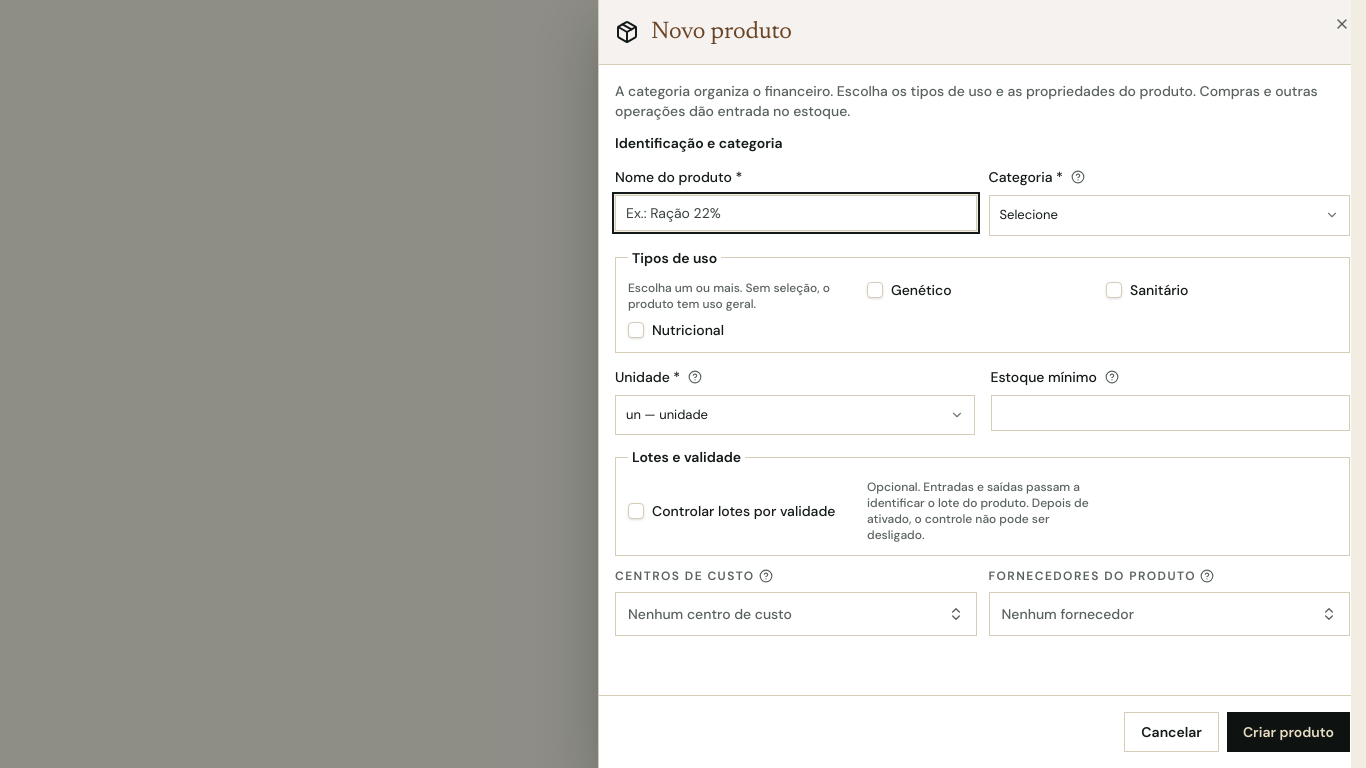
Test case: tipos de uso e validação dos perfis › recusa MS -1 no campo e mantém o formulário
This screenshot has width=1366, height=768.
In the field labelled "Nome do produto": (796, 213) [615, 195, 976, 231], type "Produto de teste"
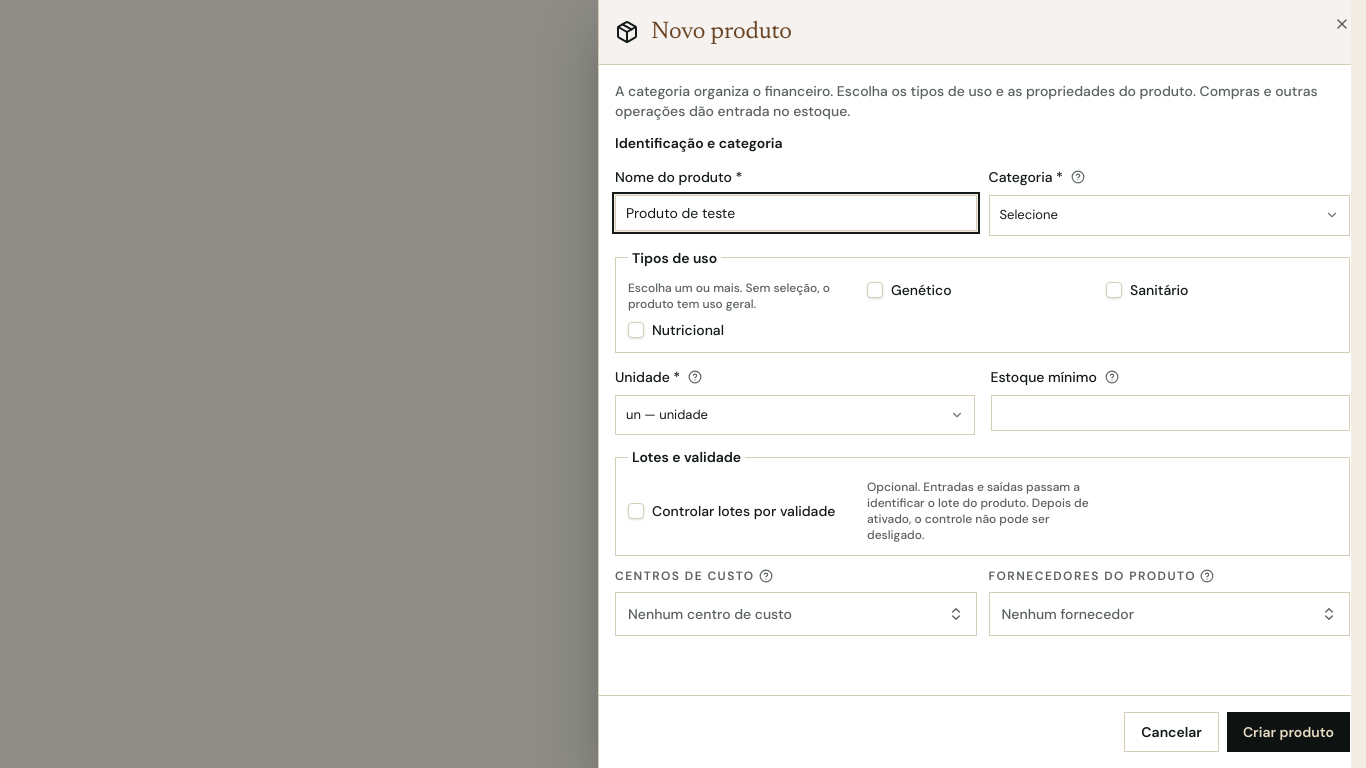
Click the dropdown named "Categoria": (1029, 214) [988, 195, 1350, 236]
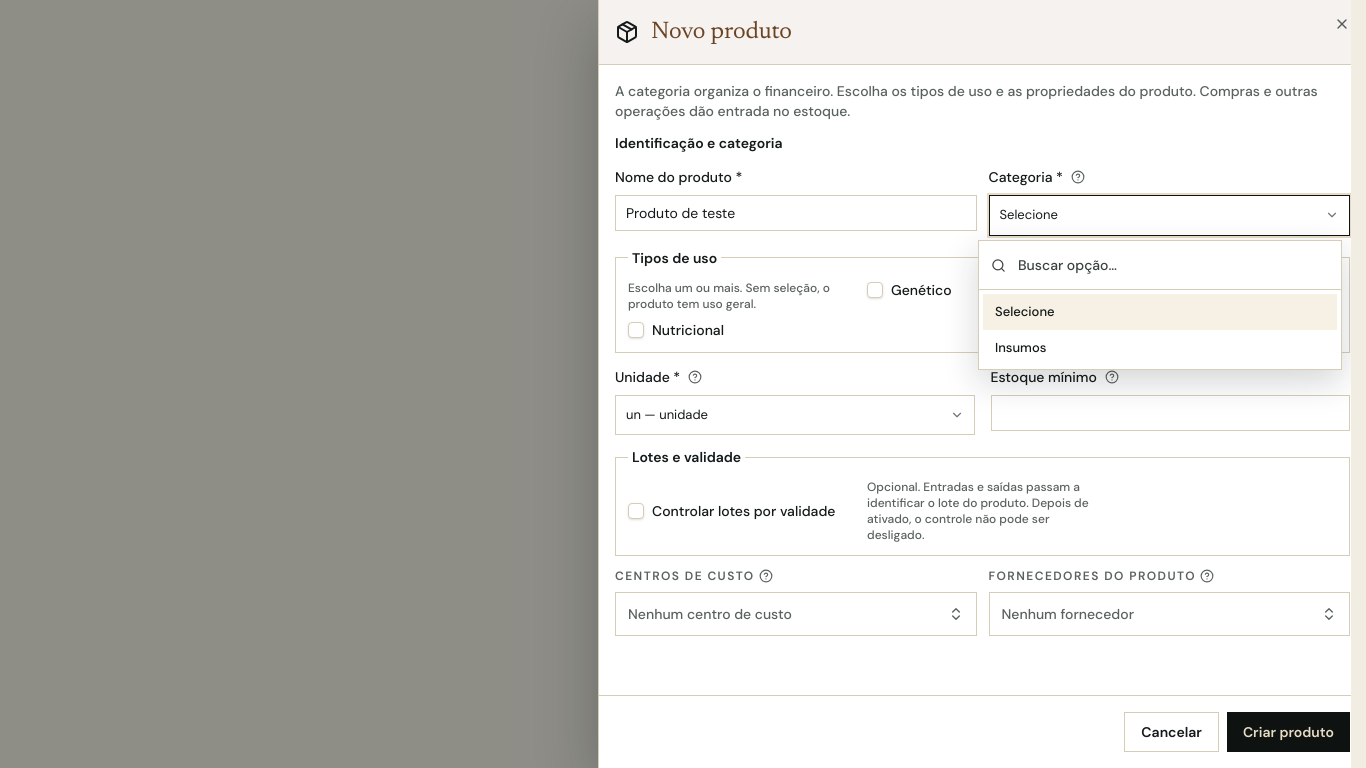
Click the option "Insumos": (1021, 347) [995, 338, 1046, 356]
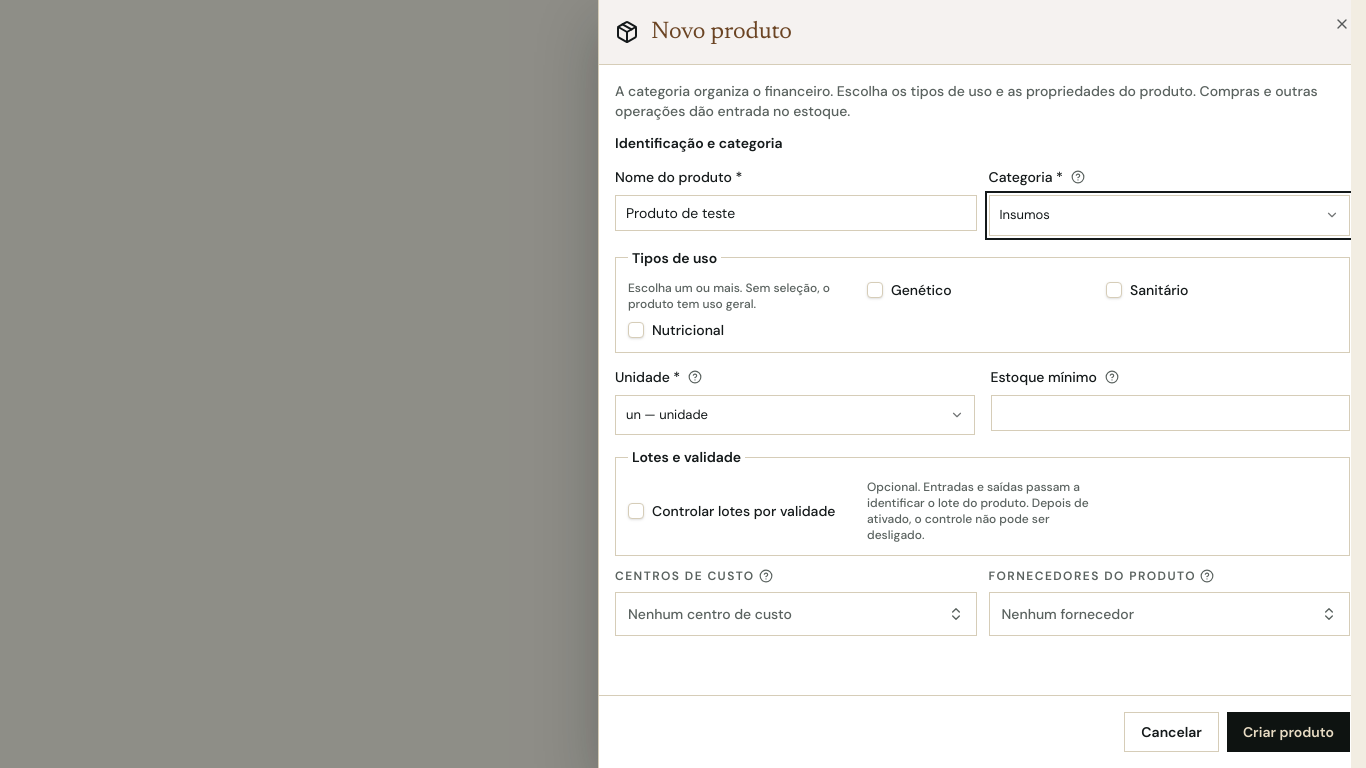
Click the checkbox named "Nutricional" next to "Nutricional": (636, 330) [628, 322, 644, 338]
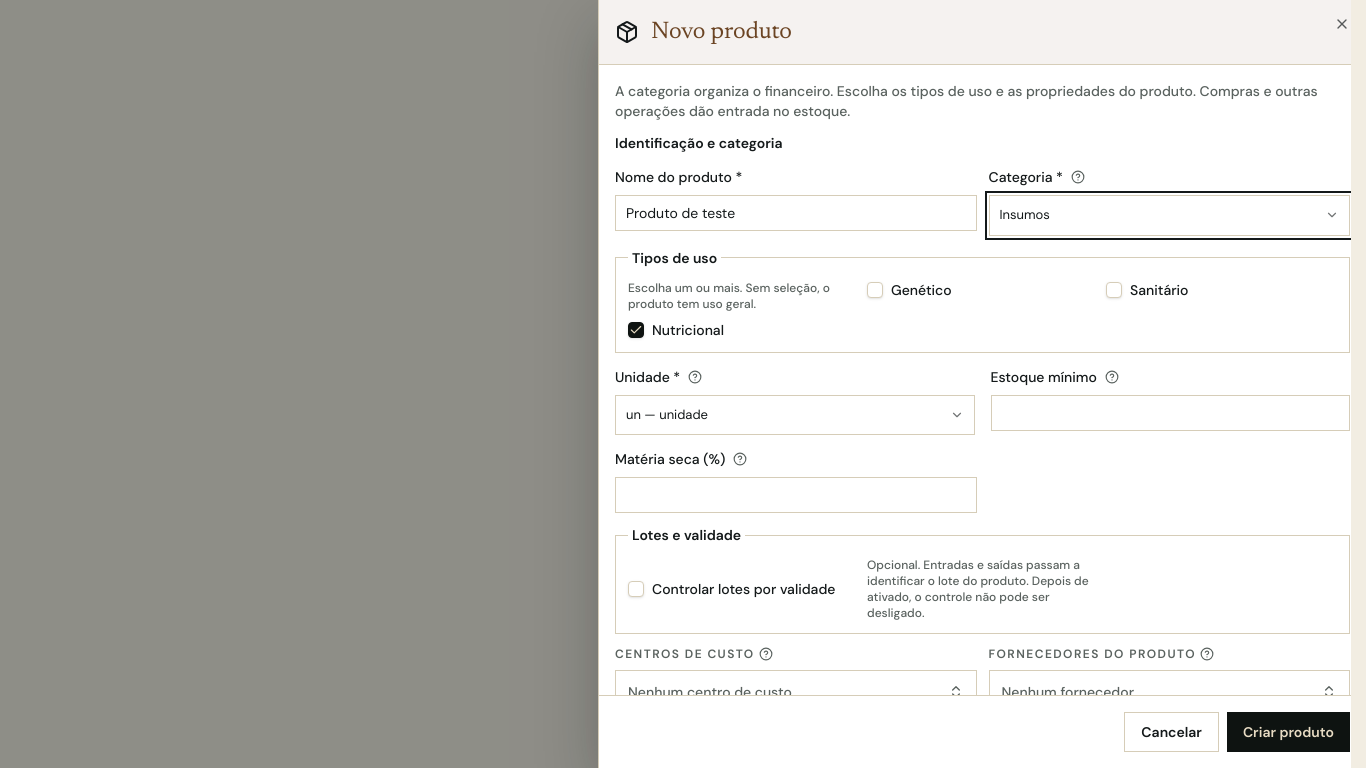
In the field labelled "Matéria seca (%)": (796, 495) [615, 477, 976, 513], type "-1"
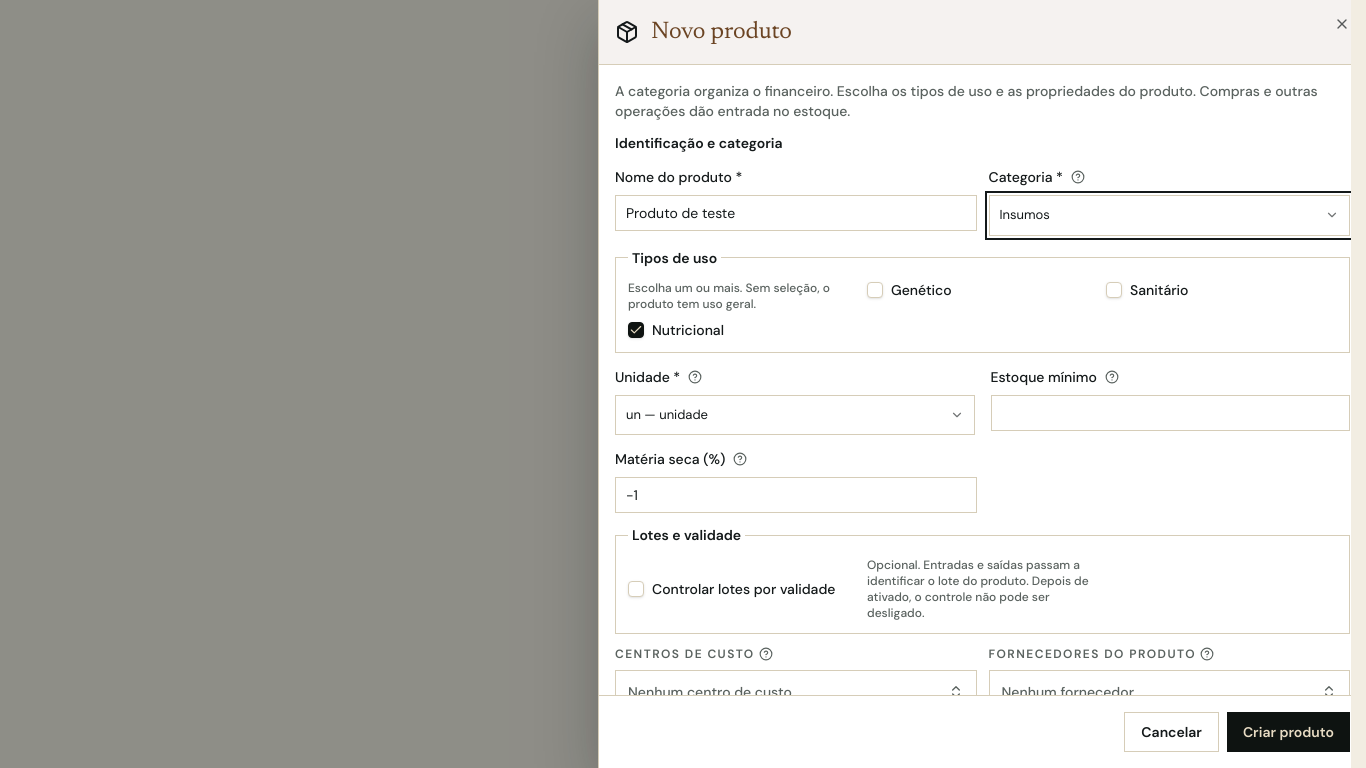
Click the button "Criar produto": (1288, 732) [1227, 712, 1350, 752]
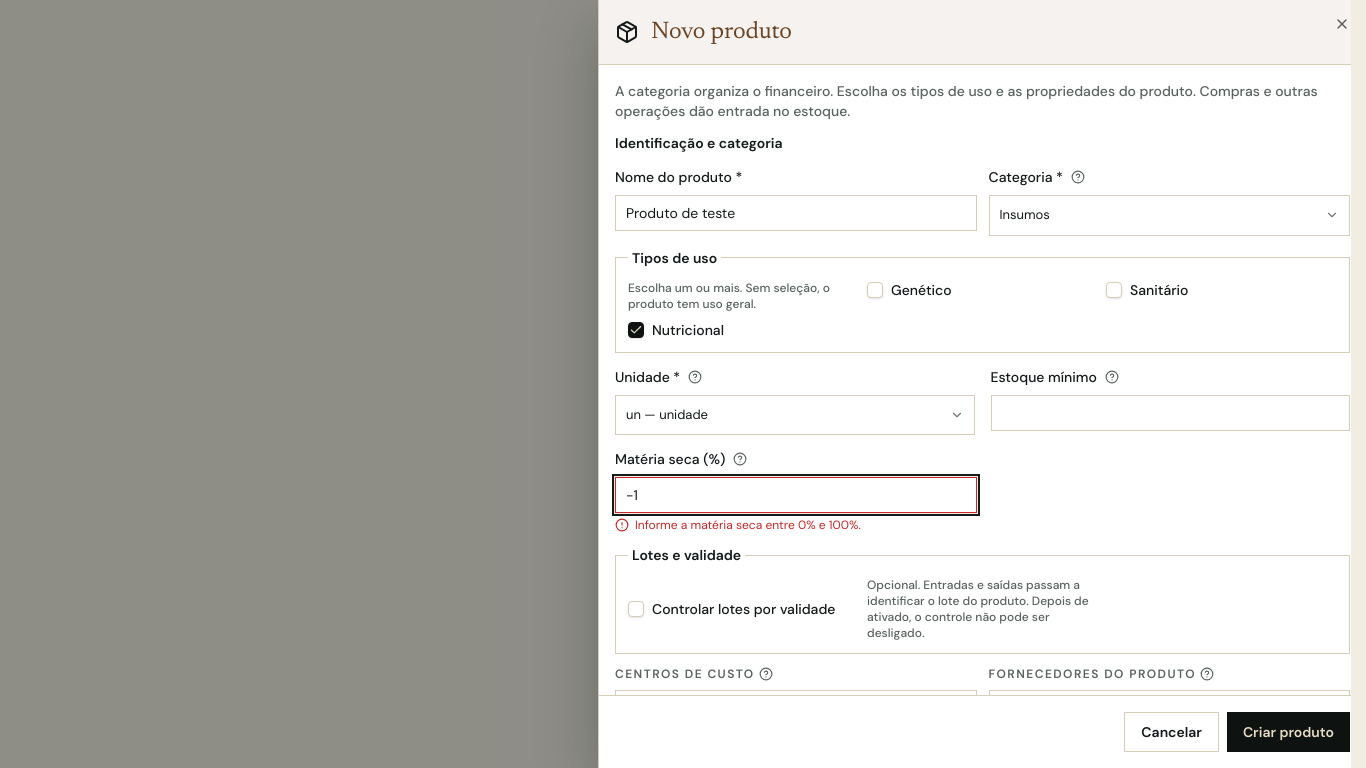
Now the text "Informe a matéria seca entre 0% e 100%." is shown, box [615, 517, 861, 533]
